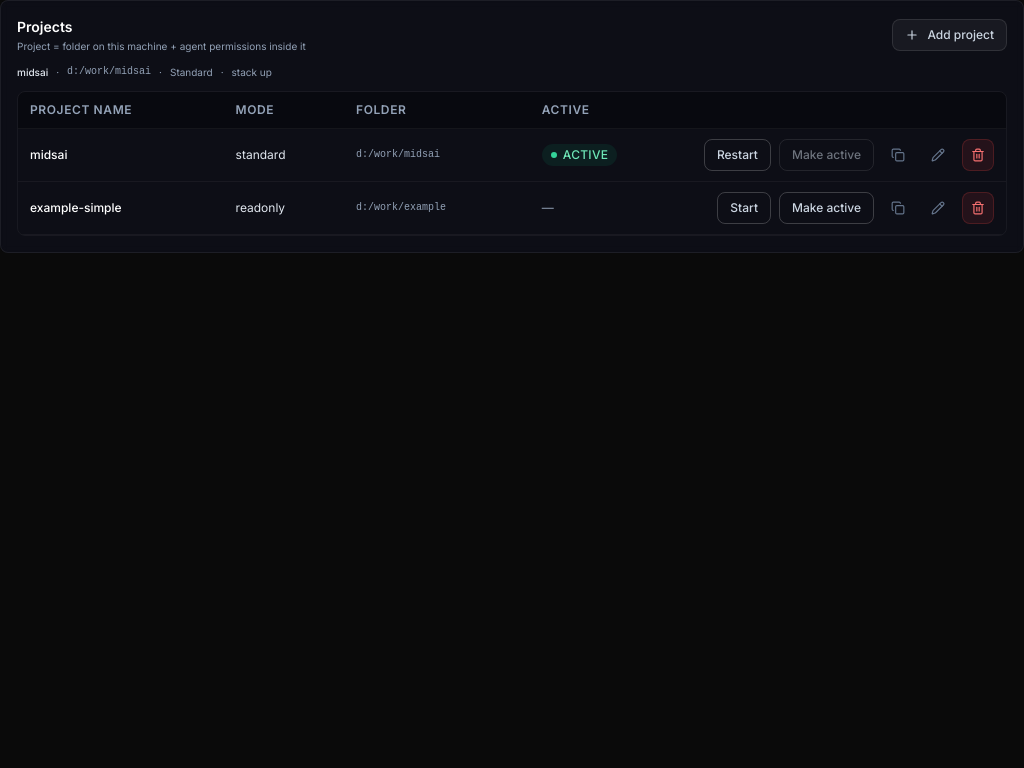
it: Devbox profile editor › loads profile_get on open and renders server errors with Save disabled
Click the button with test id "devbox-profile-edit-example-simple" at coordinates (938, 208), box [922,192,954,224]
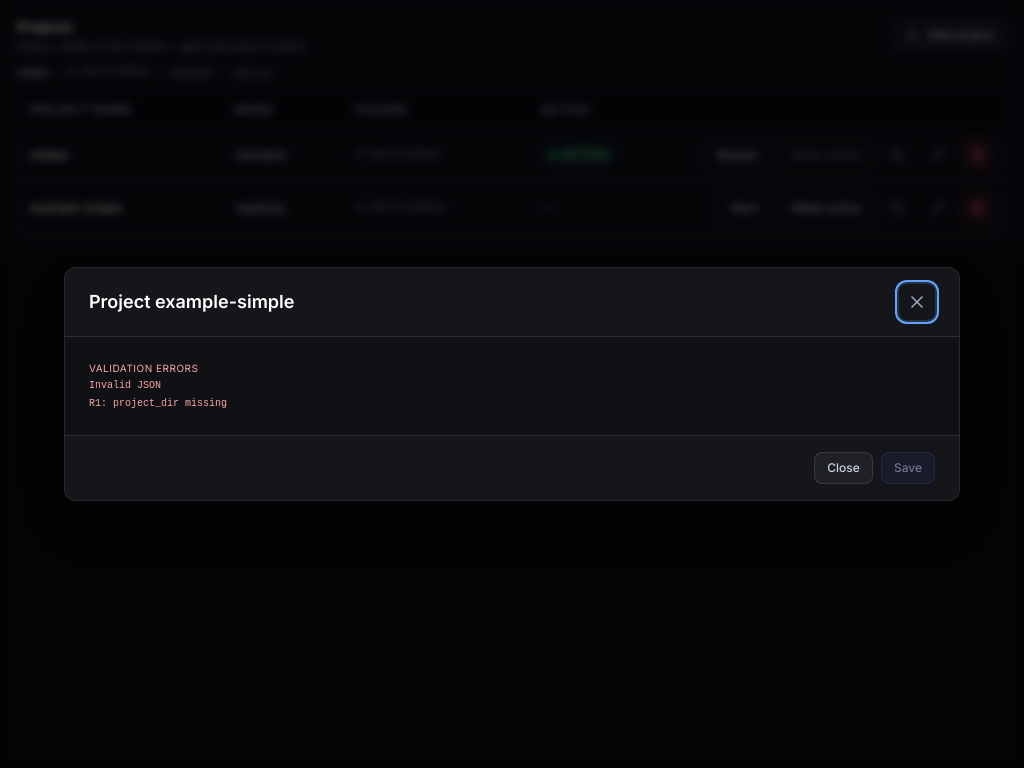
Result: the text "R1: project_dir missing" is shown at [89,398,227,409]
Result: the button with test id "devbox-profile-save" is disabled at [881,452,935,484]
